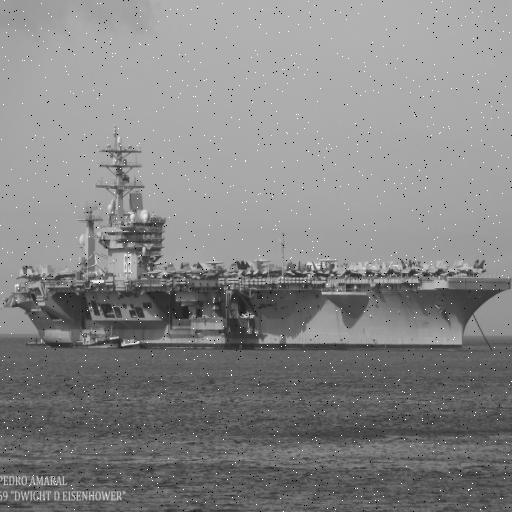Portanaves: (1, 134, 512, 349)
